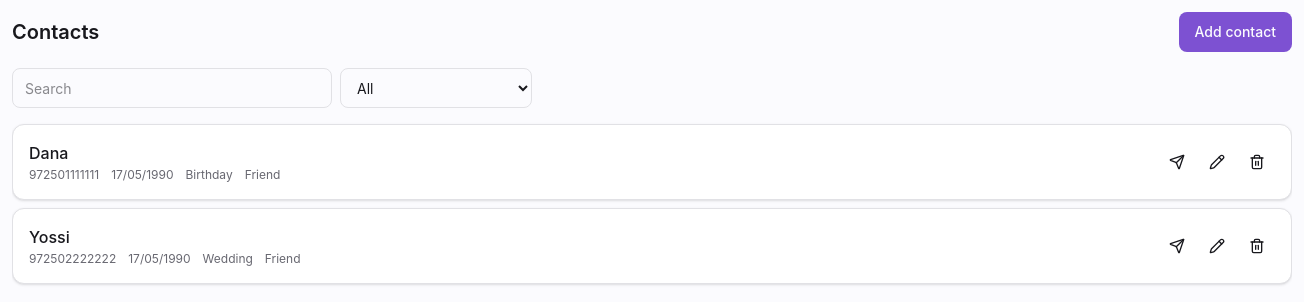
Scenario: search and filter › filters by name
Check: the text "Dana" is shown, box x1=29 y1=141 x2=68 y2=165
Type "yos" into the field with placeholder "Search".
click(172, 88); type("yos")  # box x1=12 y1=68 x2=332 y2=108
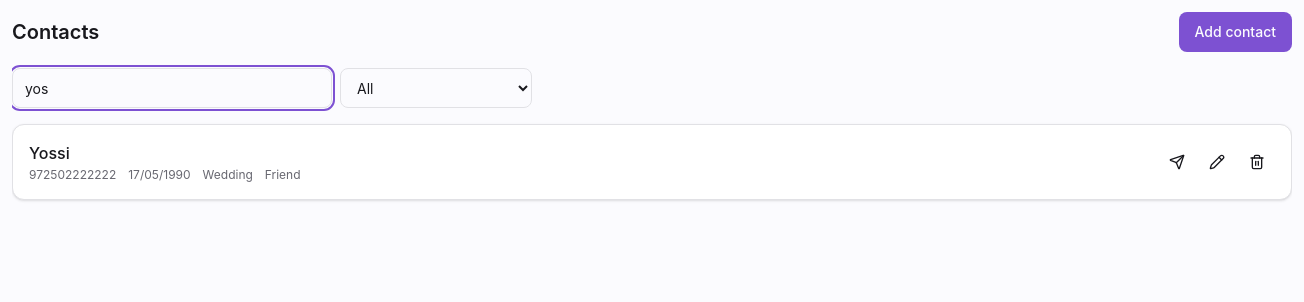
Check: the text "Yossi" is shown, box x1=29 y1=141 x2=70 y2=165
Check: the text "Dana" is gone
